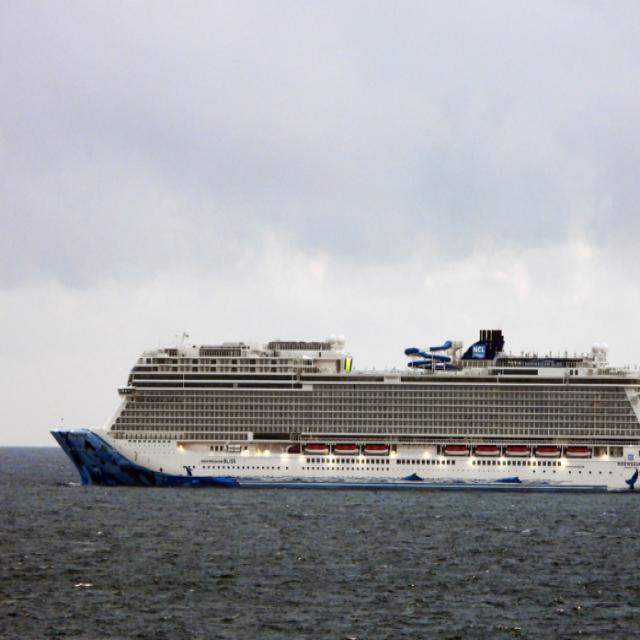cruises: (46, 326, 640, 504)
